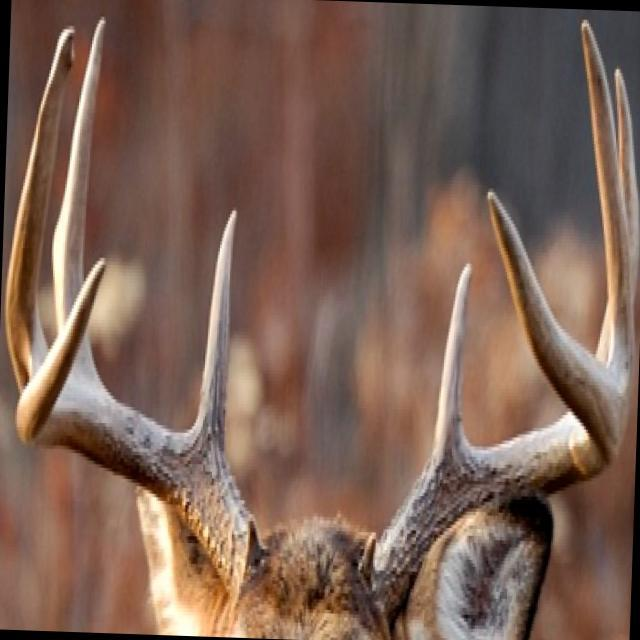L-F: (360, 191, 628, 632)
L-G1: (431, 260, 473, 460)
L-G3: (580, 19, 635, 394)
R-F: (15, 257, 267, 608)
R-G1: (191, 206, 238, 452)
